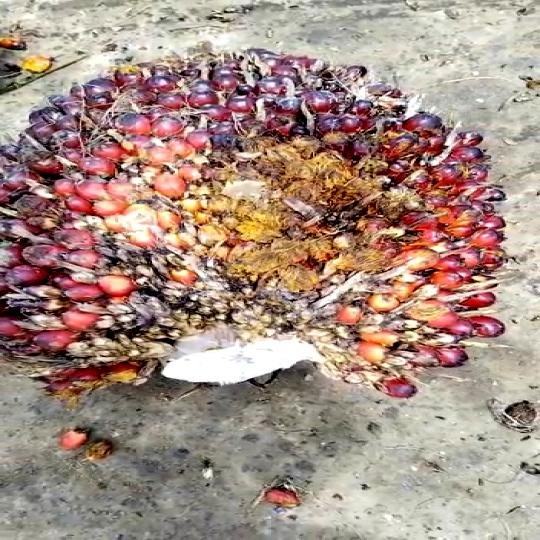masak: (0, 39, 540, 403)
